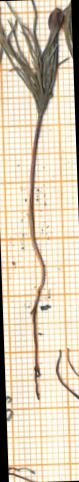flower: (0, 0, 68, 114)
root: (31, 306, 39, 398)
stem: (29, 114, 44, 307)
